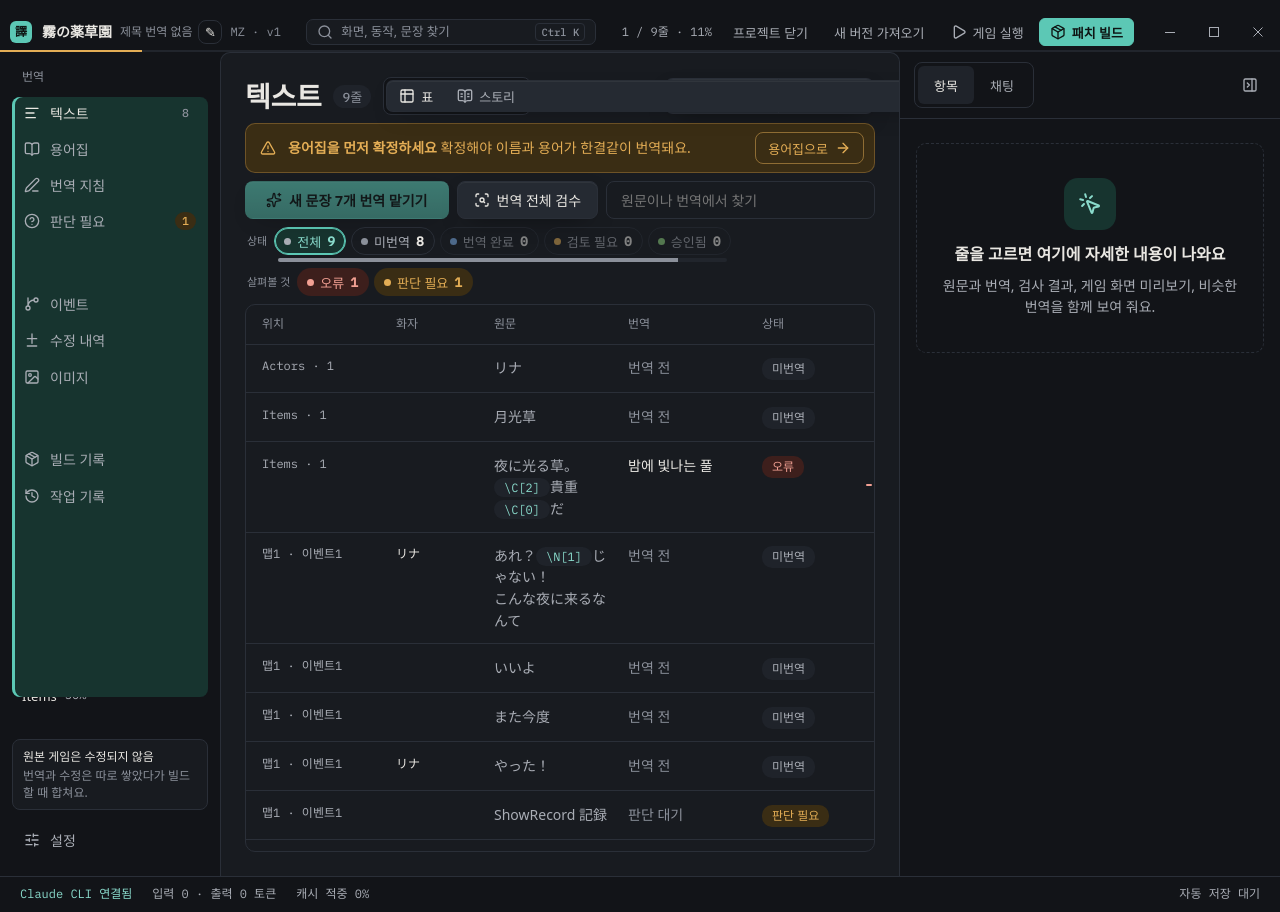
내보내기는 지금 필터의 id 로, 0개면 꺼진다
Click the button "오류 1": click(333, 282) x1=297 y1=268 x2=369 y2=296
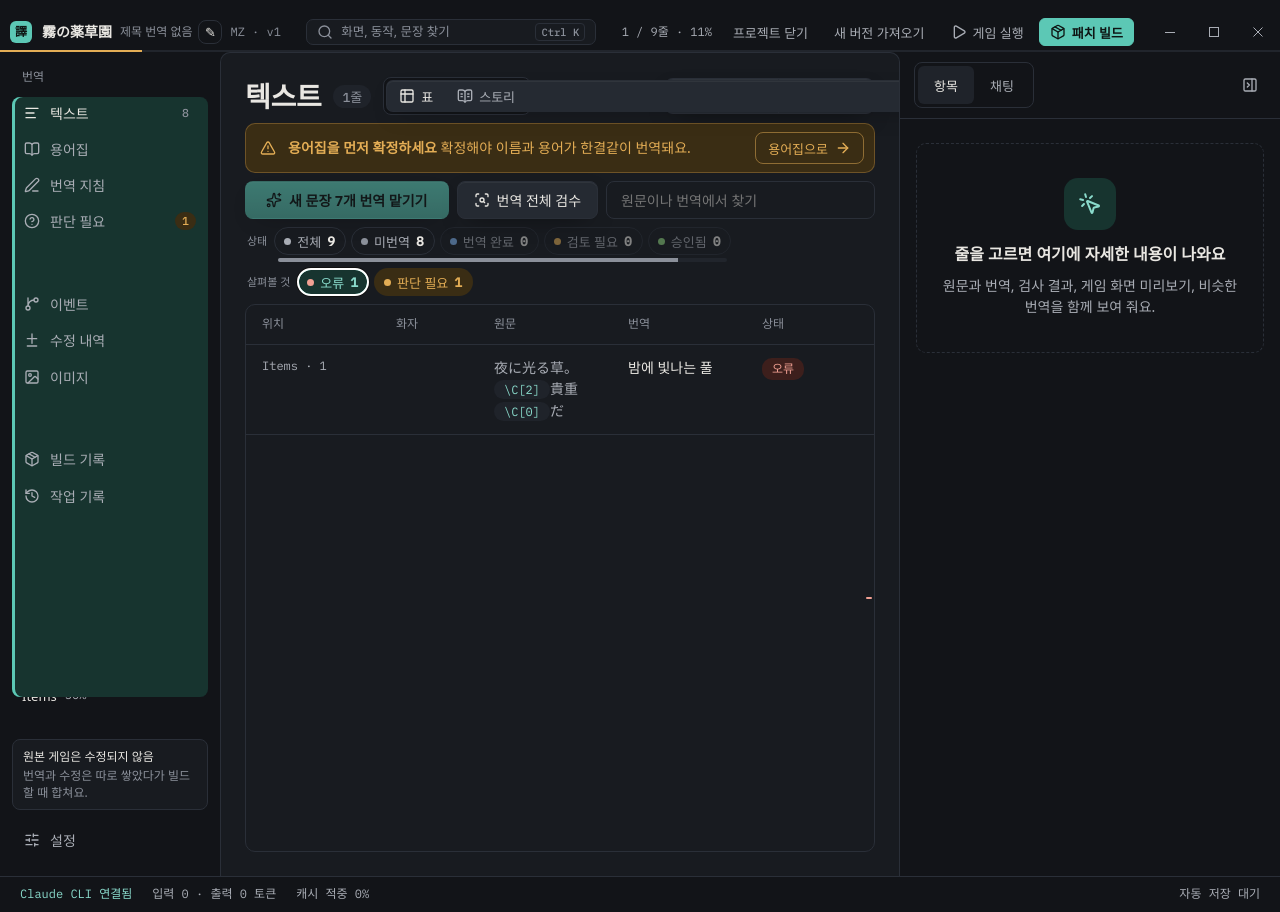
Click the button "내보내기 (1)": click(721, 96) x1=665 y1=79 x2=778 y2=113
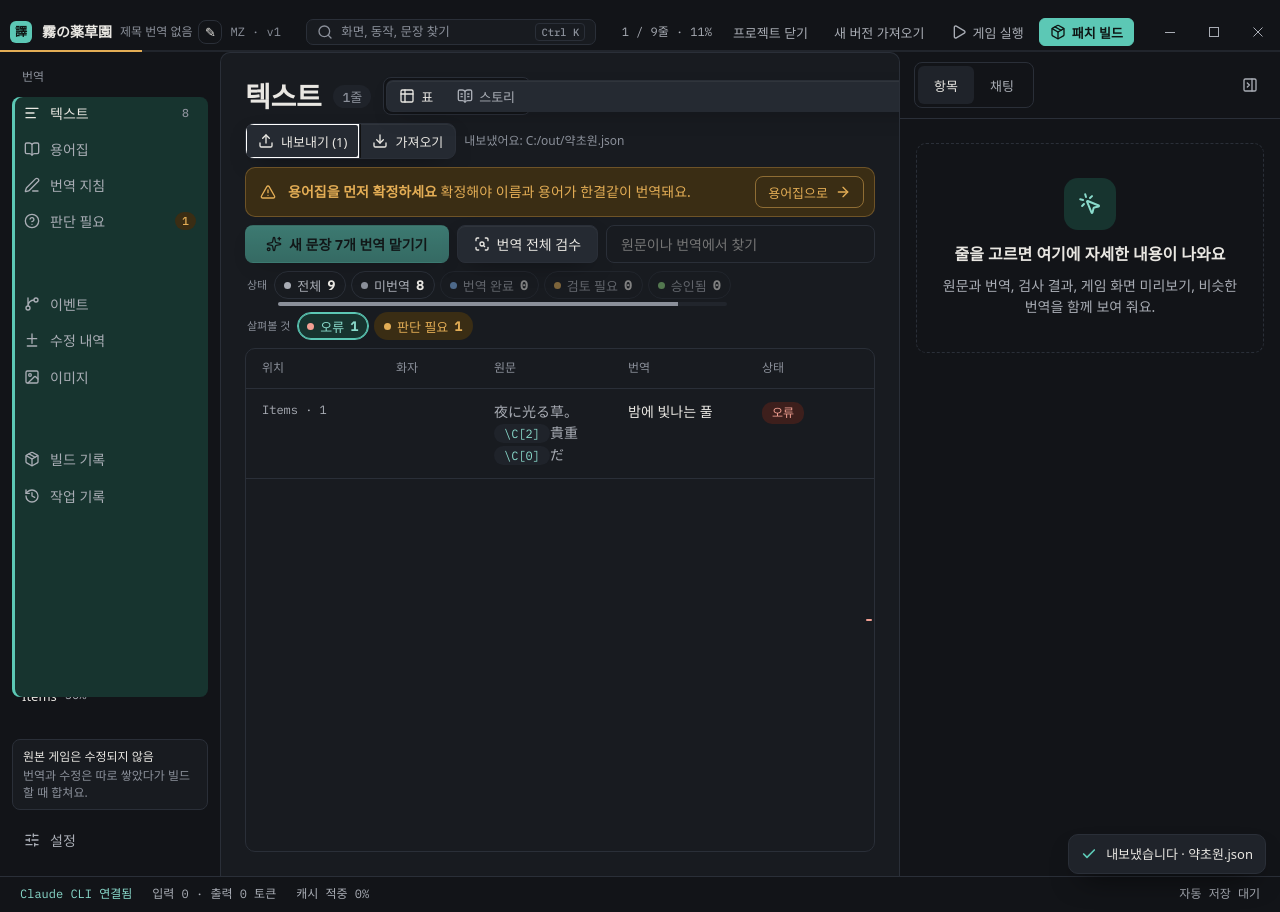
In the search field named "문장 검색": (741, 244) x1=606 y1=225 x2=875 y2=263, type "없는 글자"
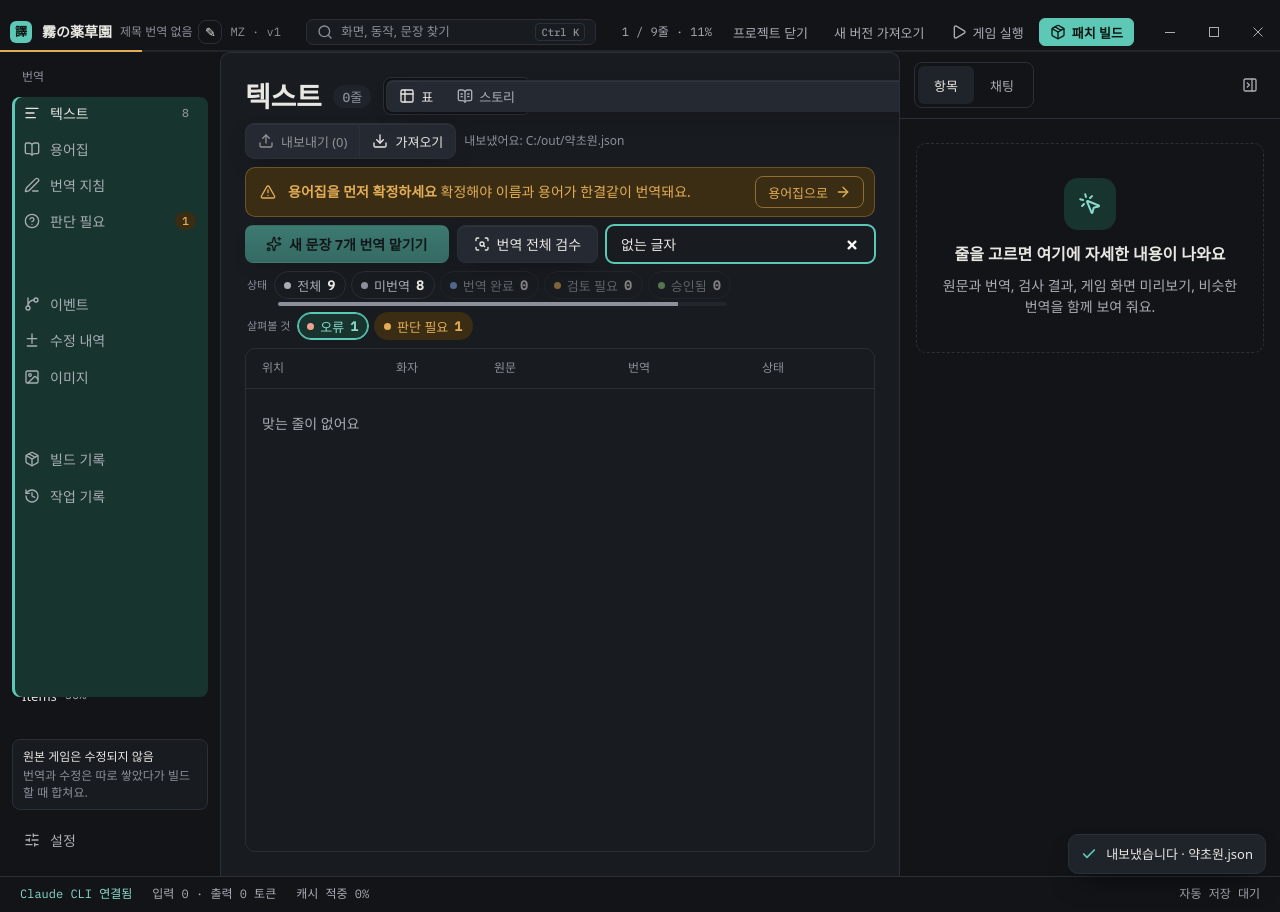
Check: the text "맞는 줄이 없어요" is shown, box x1=262 y1=414 x2=360 y2=433
Check: the button "내보내기 (0)" is disabled, box x1=246 y1=124 x2=360 y2=158
